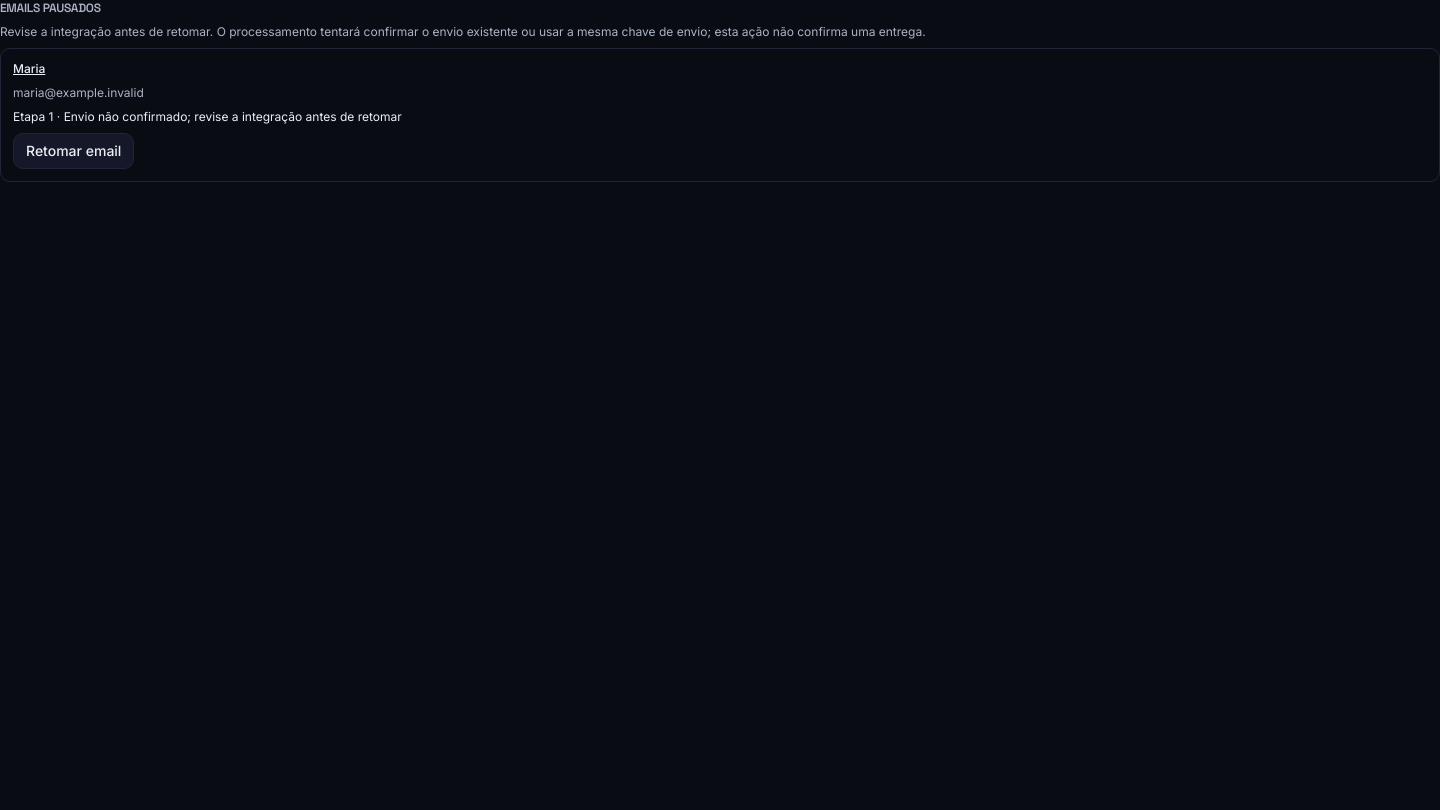
Retomada de email pausado › exige confirmação e envia a pausa e o progresso exibidos sem afirmar envio
Click the button "Retomar email".
click(74, 151)  # box x1=13 y1=133 x2=134 y2=169
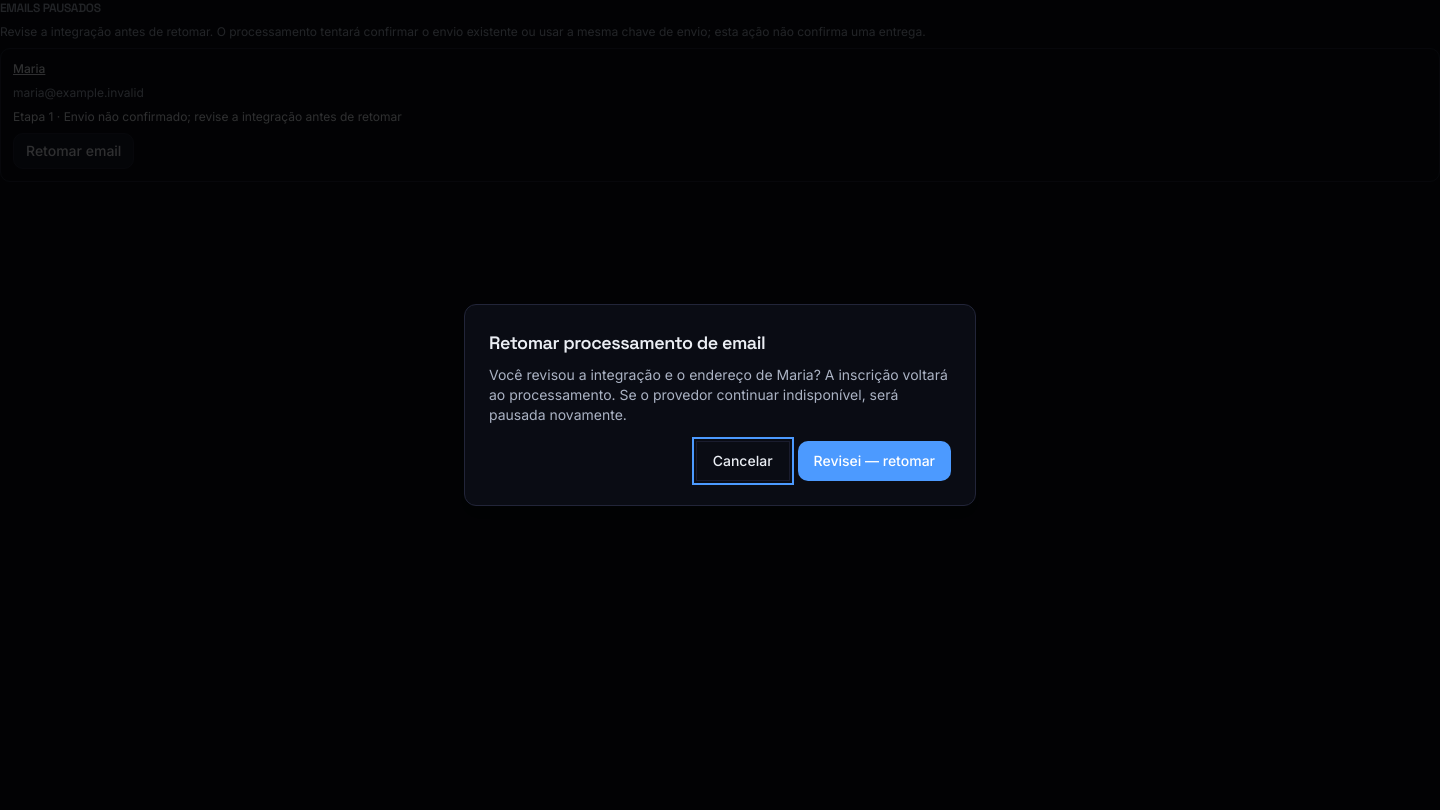
Check: the text "esta ação não confirma uma entrega" is shown, box x1=0 y1=24 x2=926 y2=39
Click the button "Revisei — retomar".
click(874, 461)  # box x1=798 y1=441 x2=951 y2=481
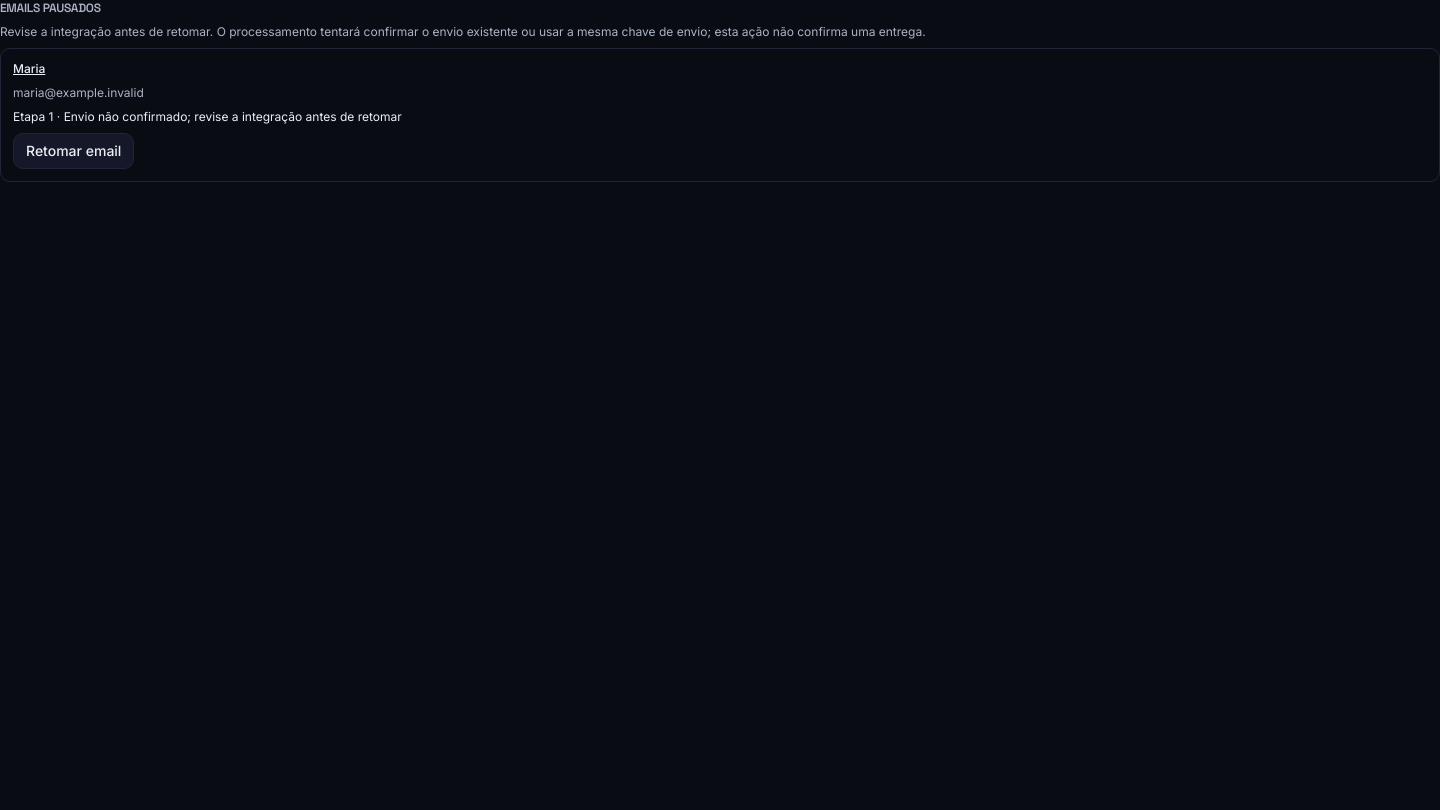
Check: the dialog is gone
